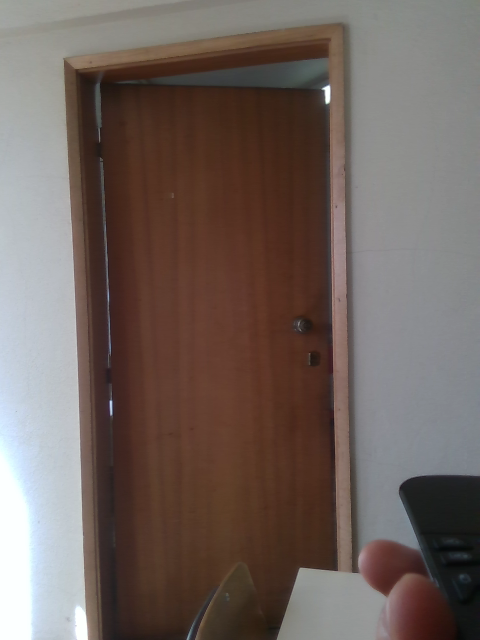closed: (61, 22, 353, 639)
